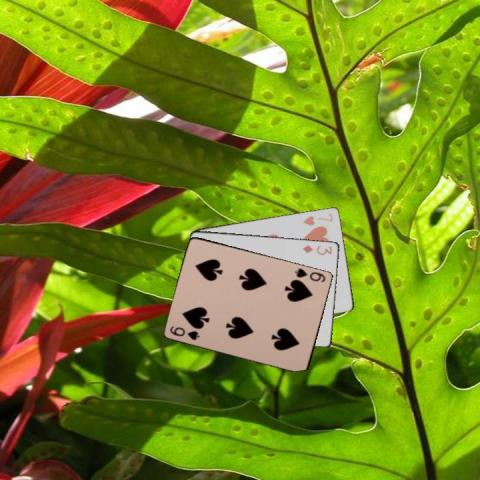3d: (300, 242, 333, 256)
6s: (292, 266, 327, 284), (168, 323, 202, 341)
7h: (301, 210, 334, 227)
